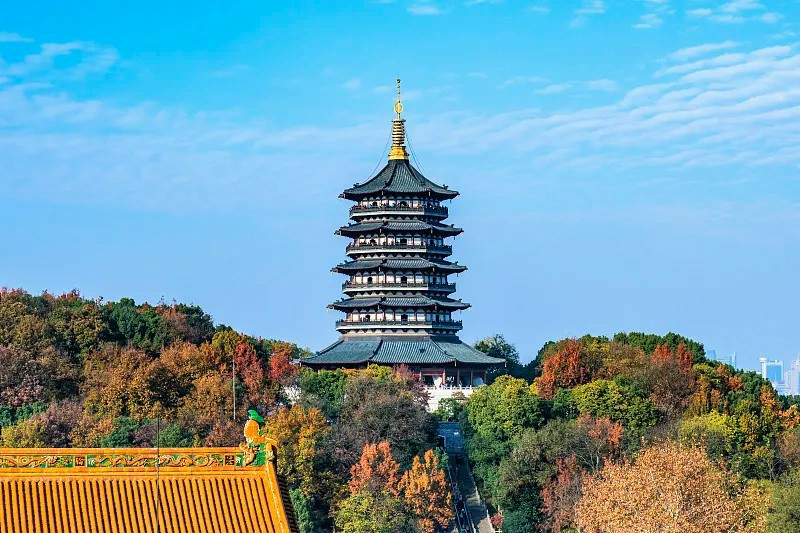Leifeng: (301, 70, 507, 386)
